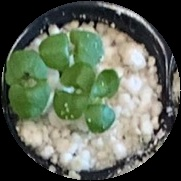Basil: (7, 52, 51, 121), (82, 70, 123, 129), (56, 61, 96, 118), (46, 30, 104, 66)
